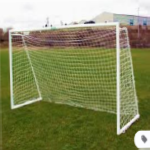goals: (7, 21, 143, 135)
